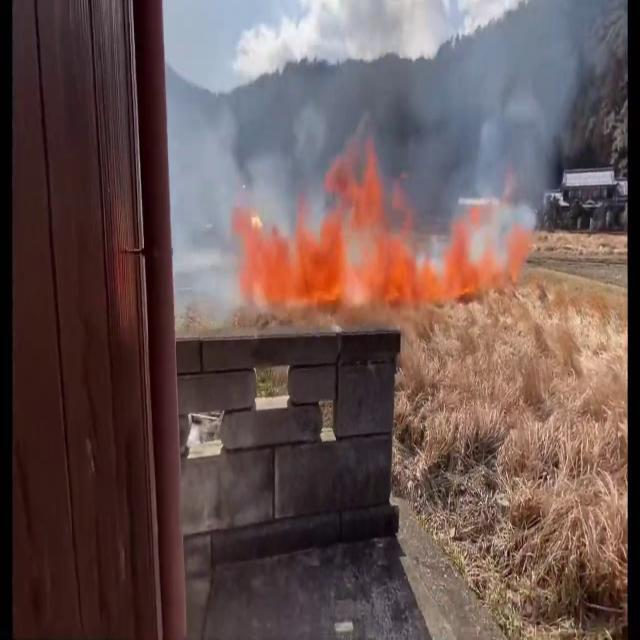Fire: (238, 152, 488, 322)
Smoke: (413, 0, 614, 270), (165, 49, 293, 333)
